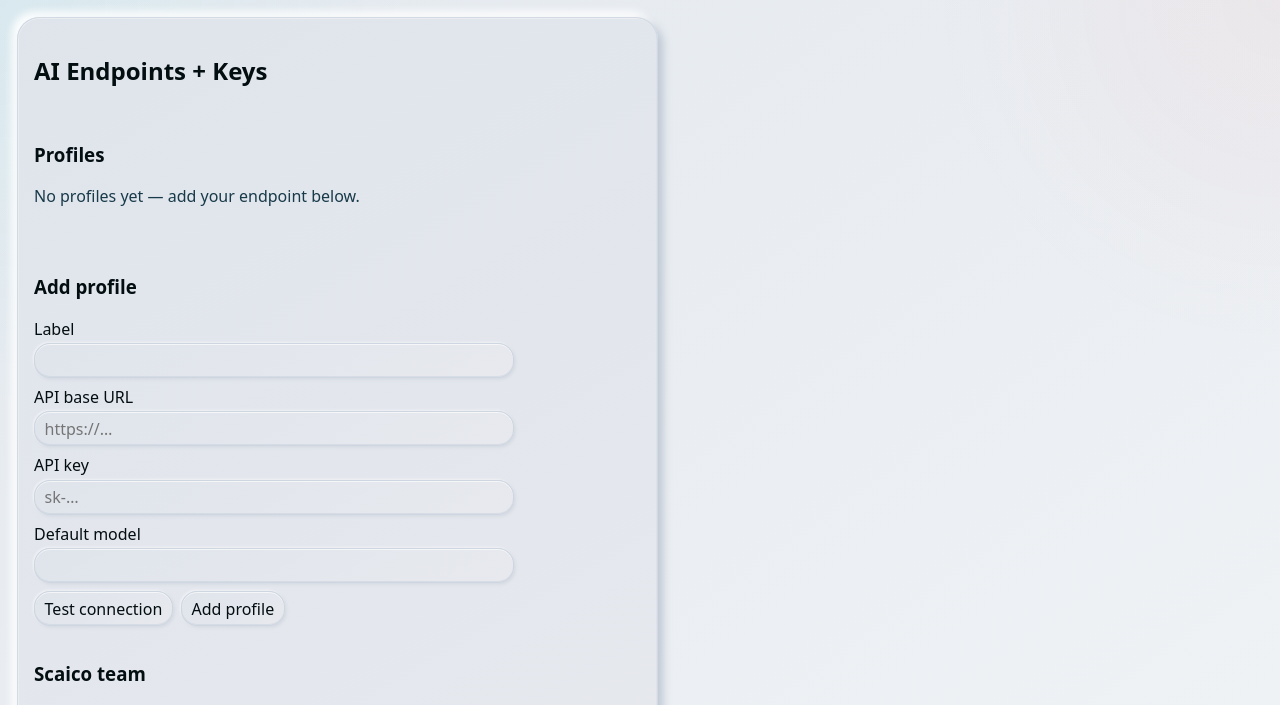
Settings › adds a profile through the form
This screenshot has width=1280, height=705.
In the field named "Profile label": (274,360) [34,343,514,378], type "Mine"
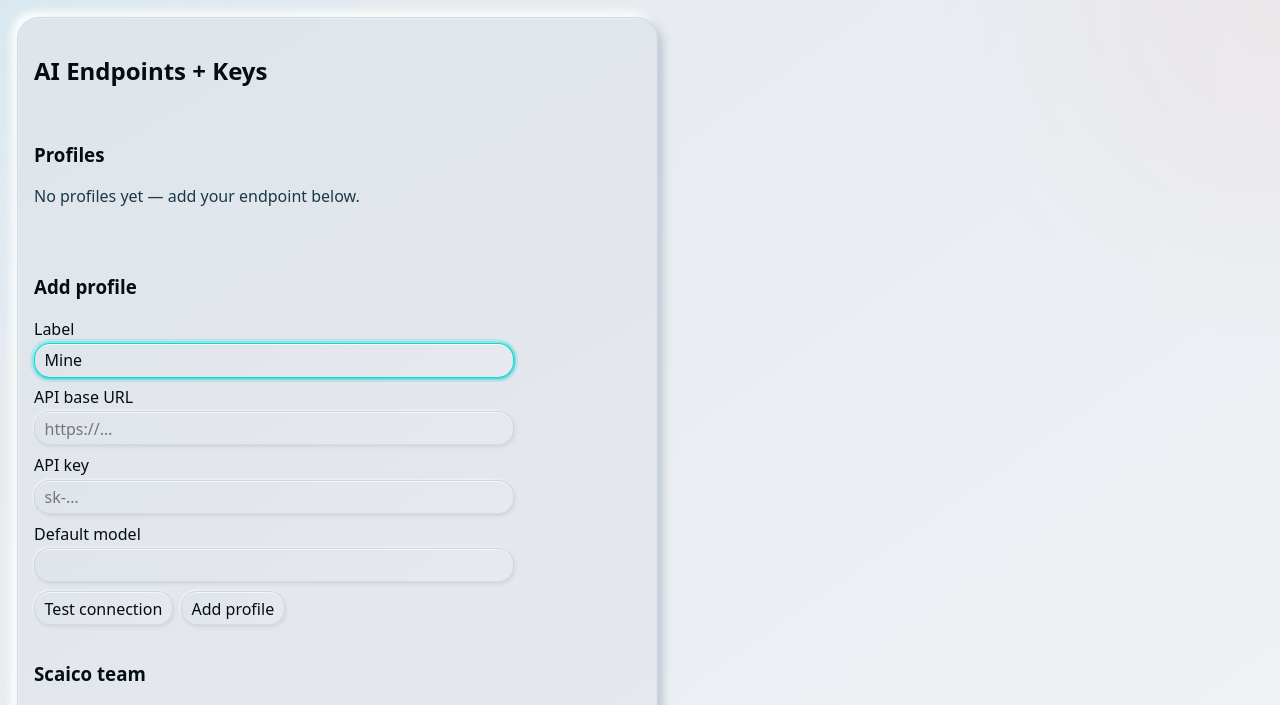
In the field labelled "API base URL": (274,429) [34,411,514,446], type "https://llm.local"
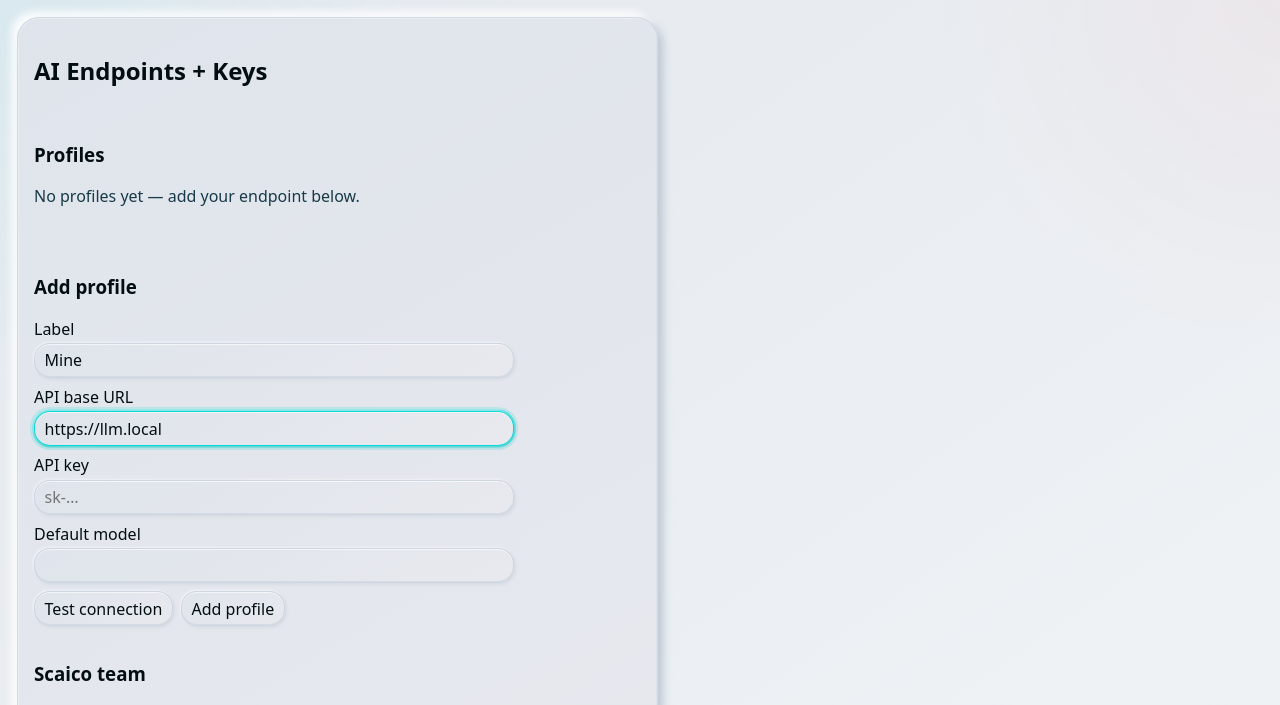
In the password field labelled "API key": (274,497) [34,480,514,515], type "sk-secret-value"
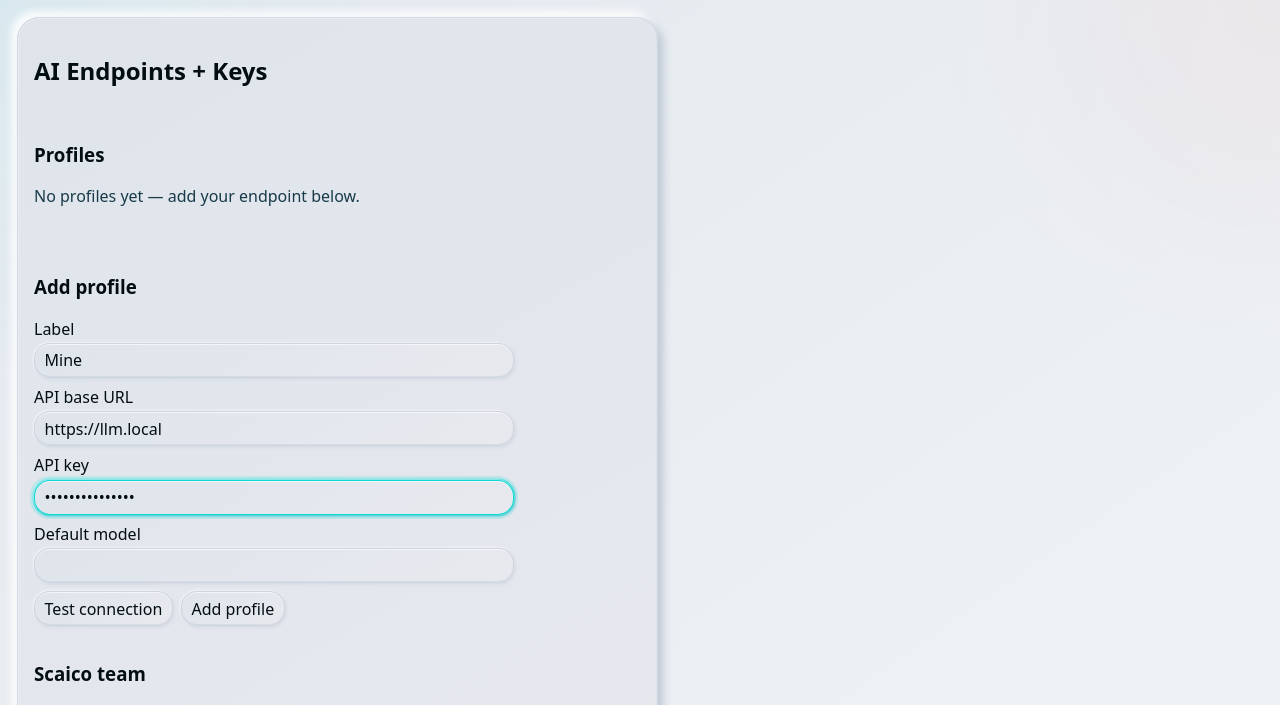
In the field labelled "Default model": (274,566) [34,548,514,583], type "m"
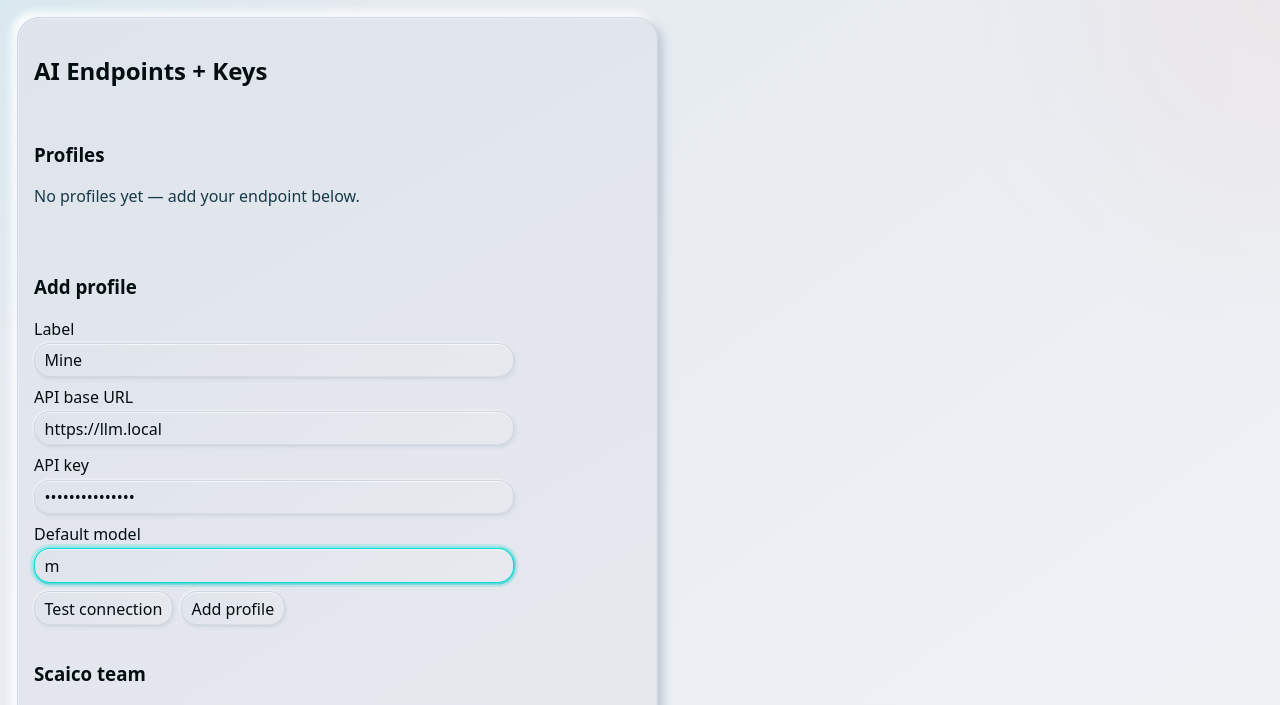
Click the button "Add profile": (233,609) [181,591,285,626]
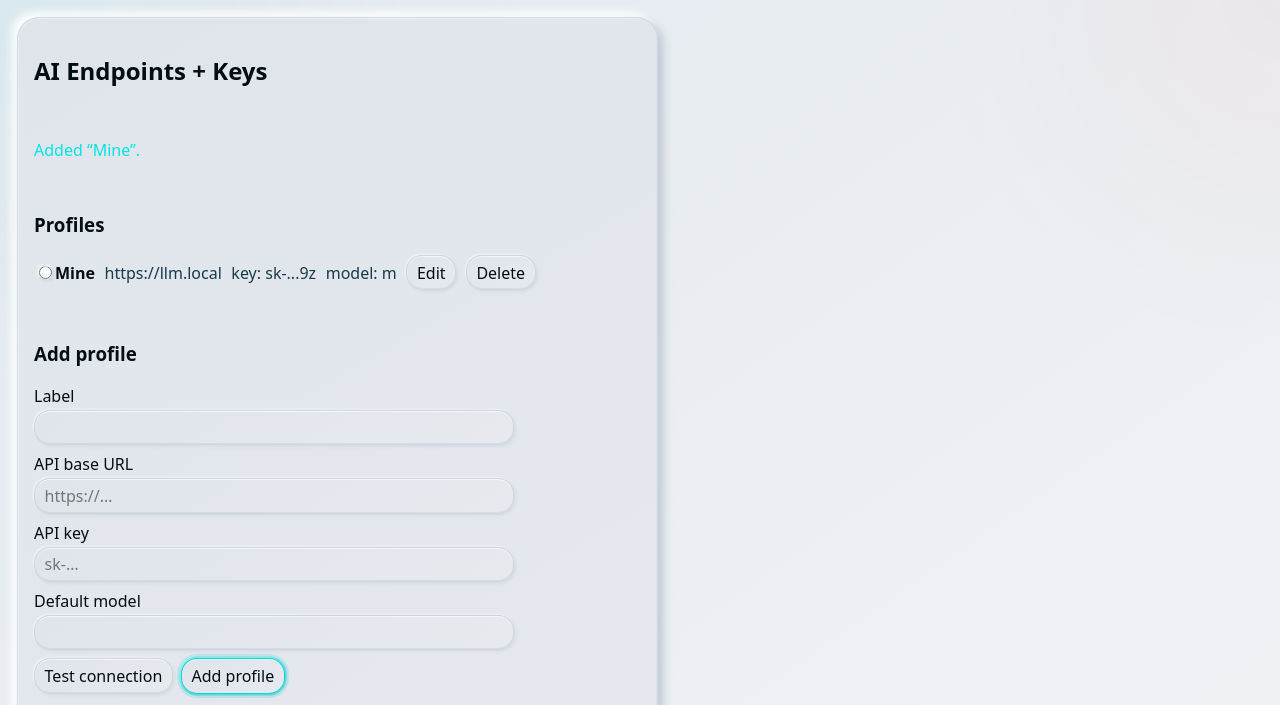
Expected: the list item with test id "profile-row" shows "Mine", [55,262,95,284]
